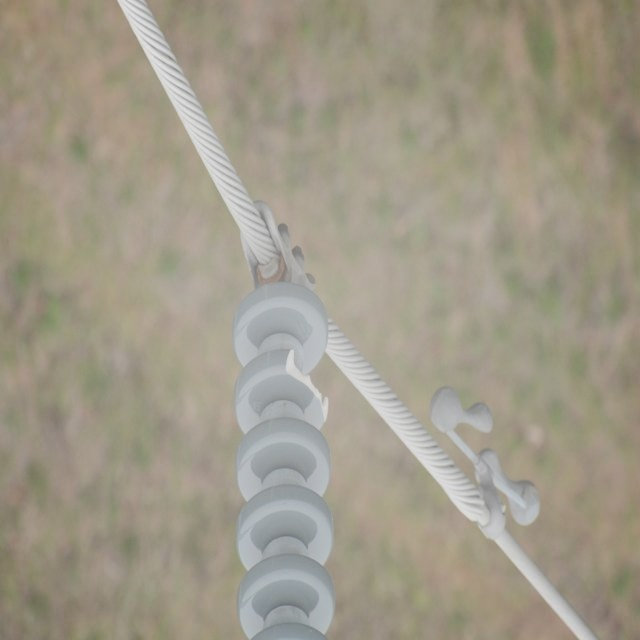broken: (282, 344, 332, 424)
insulator: (233, 280, 336, 640)
